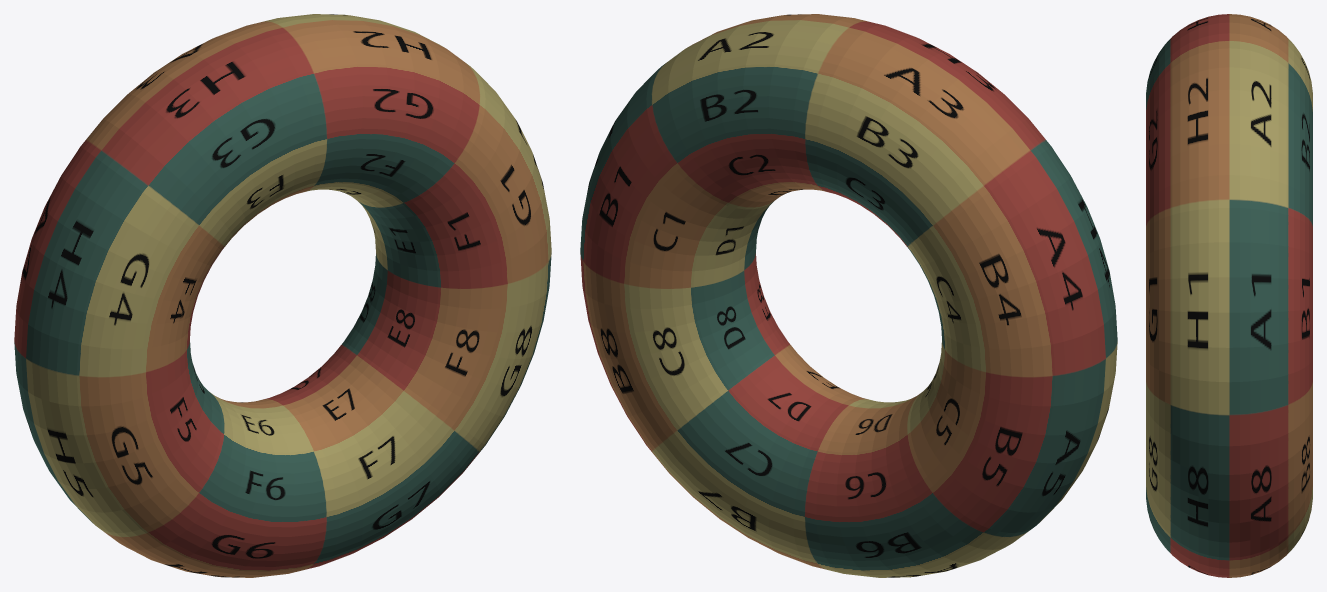
File: texture_torus_R14_r23.glb
3 renders of one model, left to right at view 1: azimuth 30°, elevation 25°; view 2: azimuth 150°, elevation 25°; view 3: azimuth 270°, elevation 25°, orthographic. The views are drawn at different scales.
Parts seen in each view (by area): view 1: world; view 2: world; view 3: world.
Boxes of the visible parts, box(x1,y1,x2,y2) form: world: box(14, 14, 551, 577); world: box(580, 14, 1117, 577); world: box(1146, 14, 1312, 577).
Size of the model in its own units: 27.47 by 27.41 by 8.12.
Materials: 1 (1 with a texture image).
